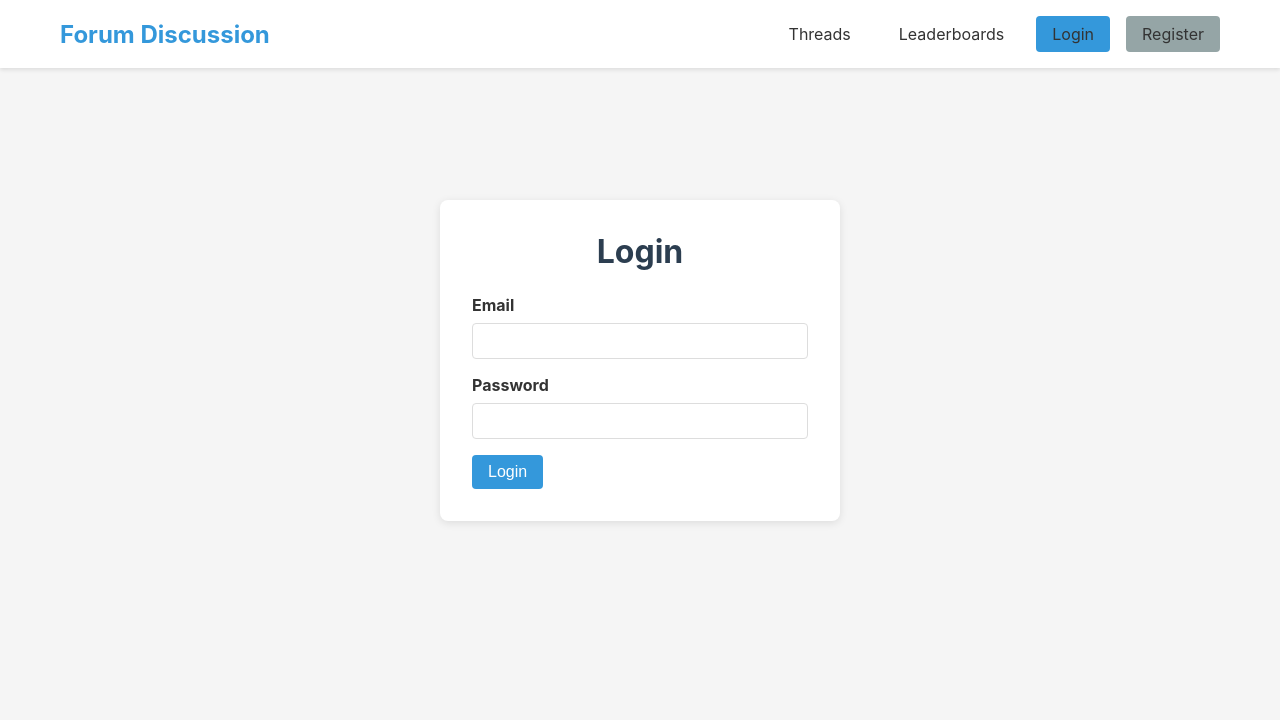
Test: Login Flow › should show error message for invalid credentials
Type "invalid@example.com" into the field labelled "Email" at (640, 341), box [472,323,808,359]
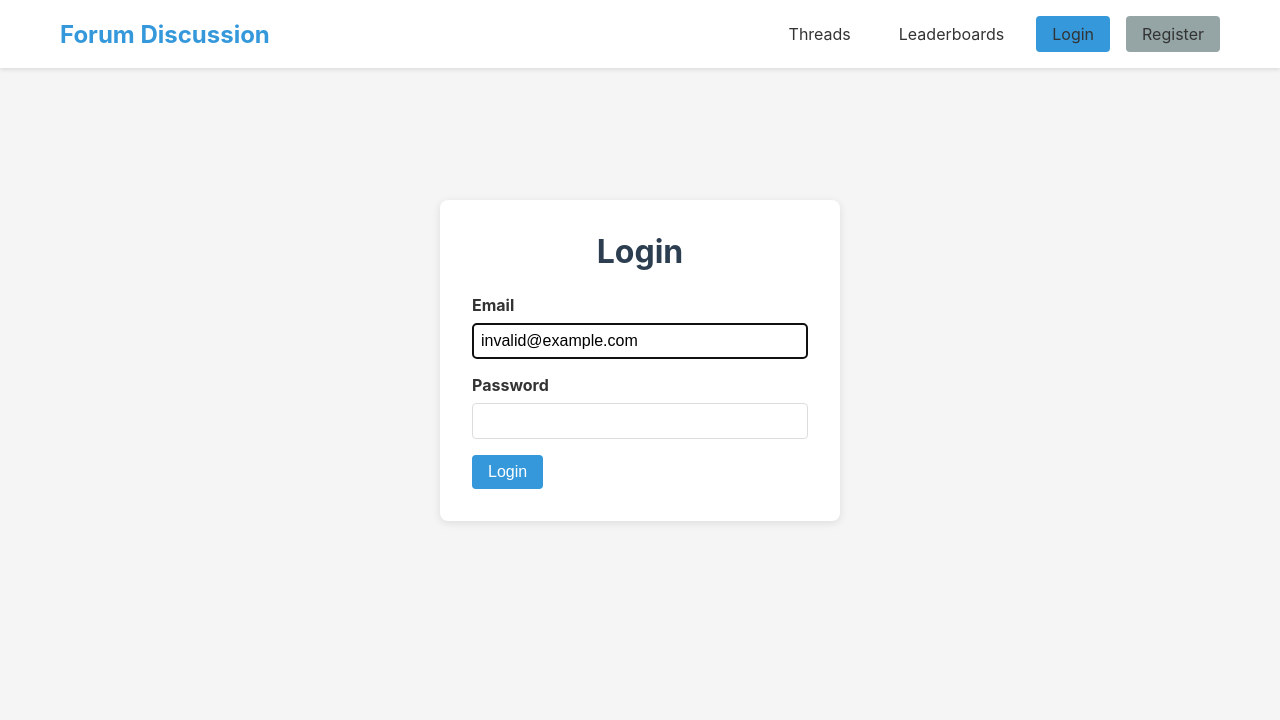
Type "wrongpassword" into the password field labelled "Password" at (640, 421), box [472,403,808,439]
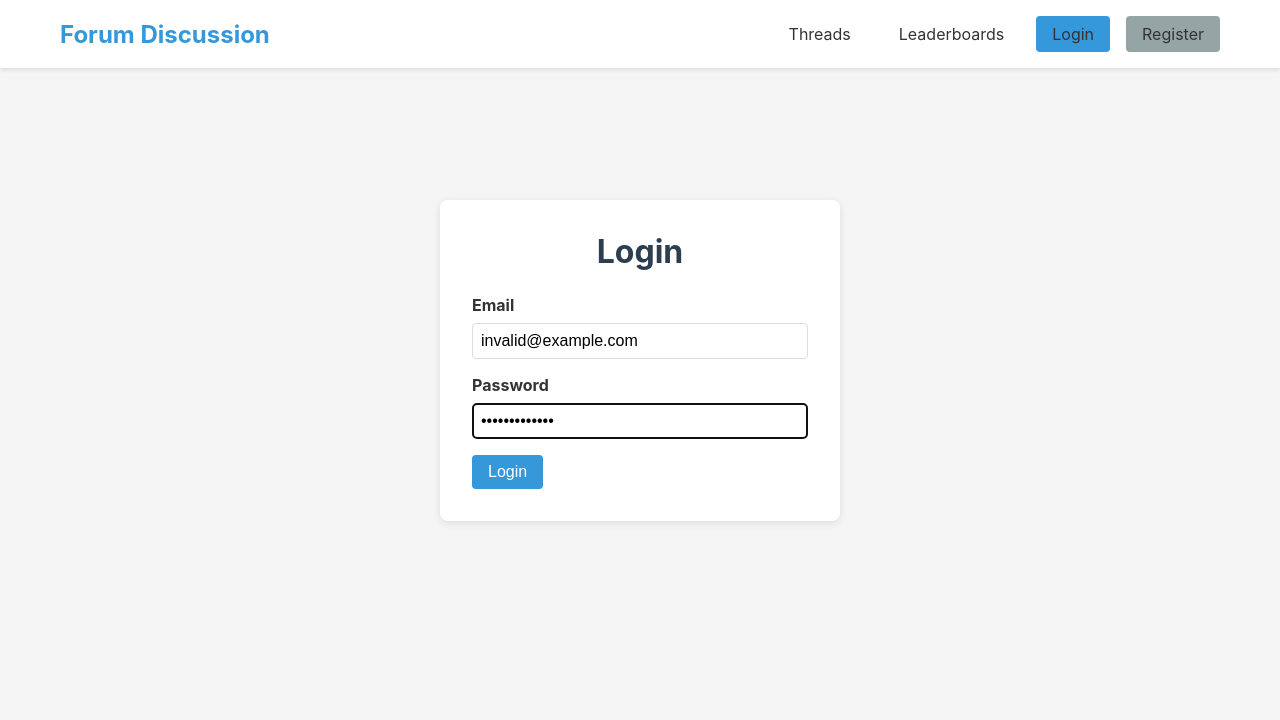
Click the submit button at (508, 472), box [472,455,543,489]
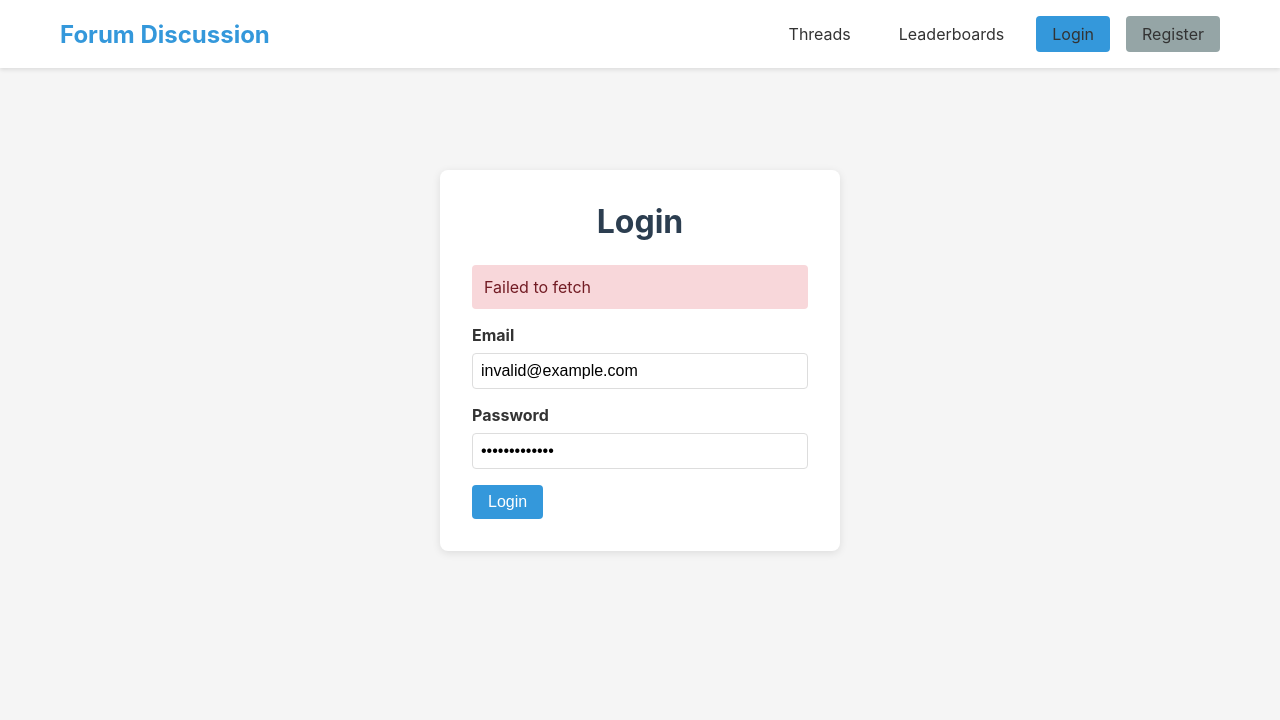
Expected: the text "Failed to fetch" is shown, [472,264,808,308]
